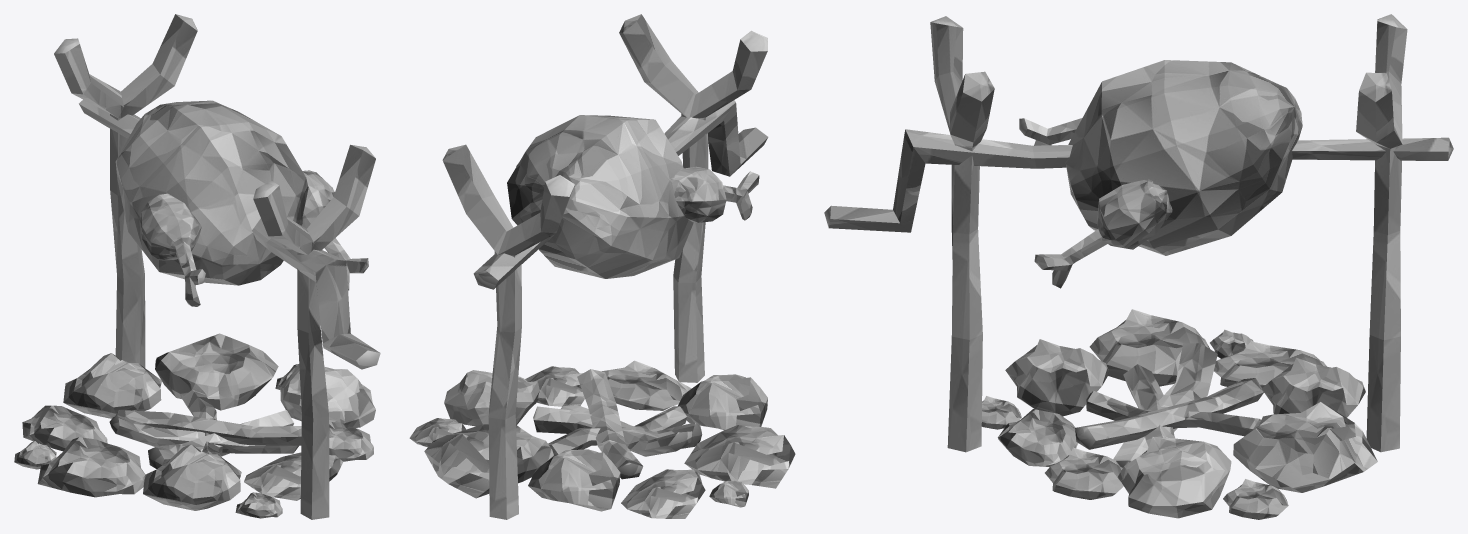
The model's file is Fireplace_03.fbx.
The picture shows the model from 3 angles, left to right: view 1: azimuth 30°, elevation 25°; view 2: azimuth 150°, elevation 25°; view 3: azimuth 270°, elevation 25°; orthographic projection. The views are drawn at different scales.
Visible parts, largest first — view 1: pCylinder15, pCylinder14_Dodo_Dodo; view 2: pCylinder15, pCylinder14_Dodo_Dodo; view 3: pCylinder15, pCylinder14_Dodo_Dodo.
Boxes of the visible parts, <box> form: pCylinder15: <box>14,14,375,519</box>; pCylinder14_Dodo_Dodo: <box>79,99,380,369</box>; pCylinder15: <box>409,14,795,519</box>; pCylinder14_Dodo_Dodo: <box>473,100,768,289</box>; pCylinder15: <box>930,14,1407,519</box>; pCylinder14_Dodo_Dodo: <box>824,60,1453,288</box>.
Size of the model in its own units: 4.26 by 4.33 by 6.15.
1 material, 1 textured.
